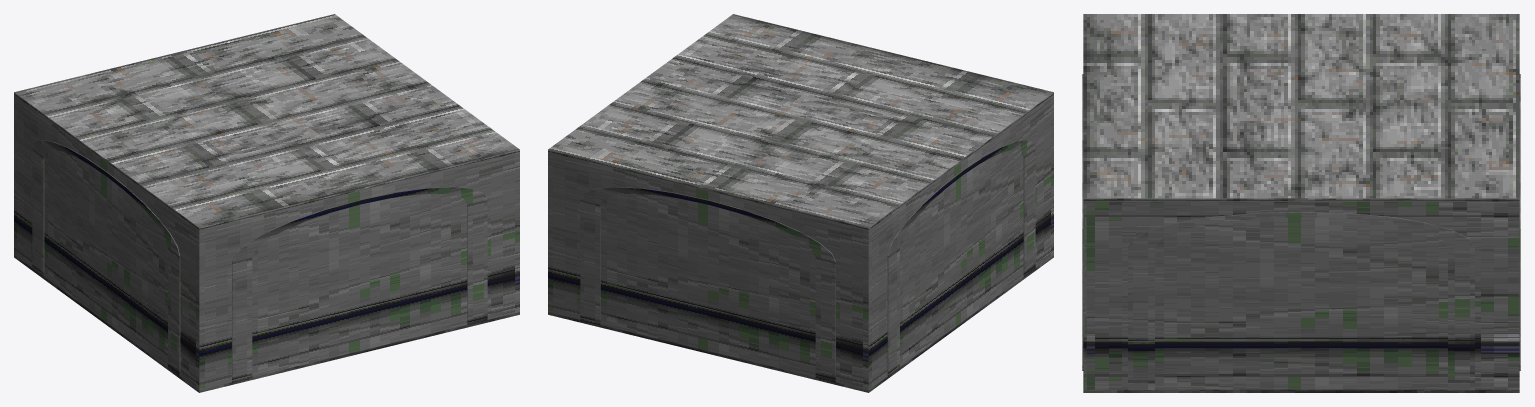
Rendered from DoomModular.glb.
The picture shows the model from 3 angles, left to right: view 1: azimuth 30°, elevation 25°; view 2: azimuth 150°, elevation 25°; view 3: azimuth 270°, elevation 25°; orthographic projection. The views are drawn at different scales.
Visible parts, largest first — view 1: ceiling, wall_down, door_down, wall_left, door_left, floor; view 2: ceiling, wall_up, door_up, wall_left, door_left, floor; view 3: ceiling, wall_right, door_right, floor, door_down, wall_down, door_up.
Part boxes in pixels (left/top/right/bottom): ceiling: left=14, top=14, right=519, bottom=230; wall_down: left=252, top=193, right=467, bottom=377; door_down: left=199, top=152, right=519, bottom=389; wall_left: left=44, top=149, right=167, bottom=366; door_left: left=14, top=95, right=199, bottom=389; floor: left=14, top=255, right=519, bottom=392; ceiling: left=548, top=14, right=1053, bottom=230; wall_up: left=600, top=193, right=815, bottom=377; door_up: left=548, top=152, right=868, bottom=389; wall_left: left=900, top=149, right=1023, bottom=366; door_left: left=868, top=95, right=1053, bottom=389; floor: left=548, top=255, right=1053, bottom=392; ceiling: left=1083, top=14, right=1519, bottom=201; wall_right: left=1083, top=201, right=1519, bottom=389; door_right: left=1128, top=212, right=1474, bottom=390; floor: left=1083, top=389, right=1519, bottom=392; door_down: left=1082, top=74, right=1086, bottom=389; wall_down: left=1083, top=201, right=1086, bottom=389; door_up: left=1516, top=74, right=1520, bottom=370.
Bounding box in the file's own units: 5.02 × 2.46 × 5.02.
Materials: 3 (3 with a texture image).
